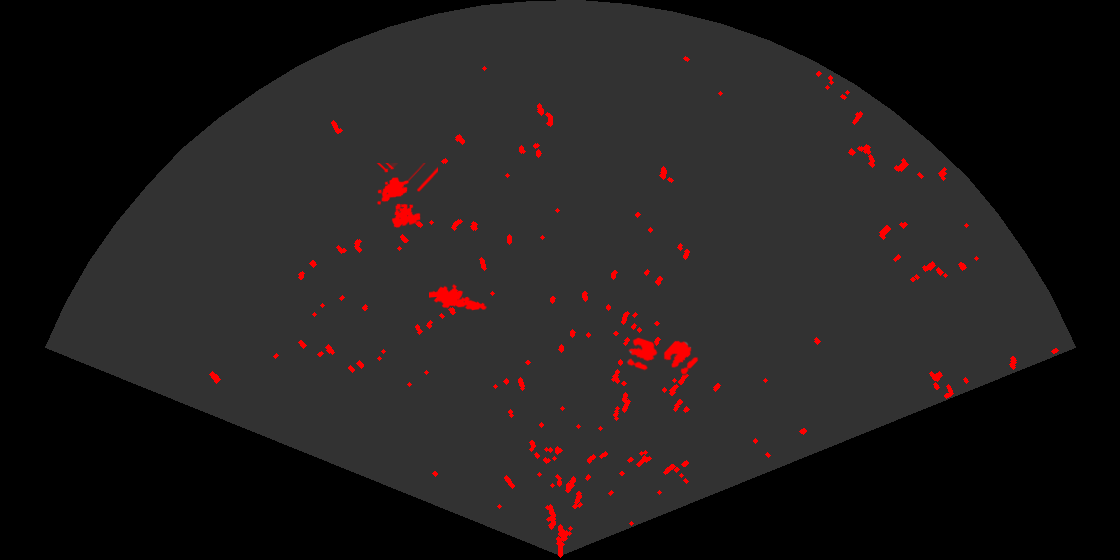ball: (662, 339, 700, 376), (625, 336, 659, 372)
cage: (375, 163, 438, 229)
frogman: (429, 282, 487, 312)
